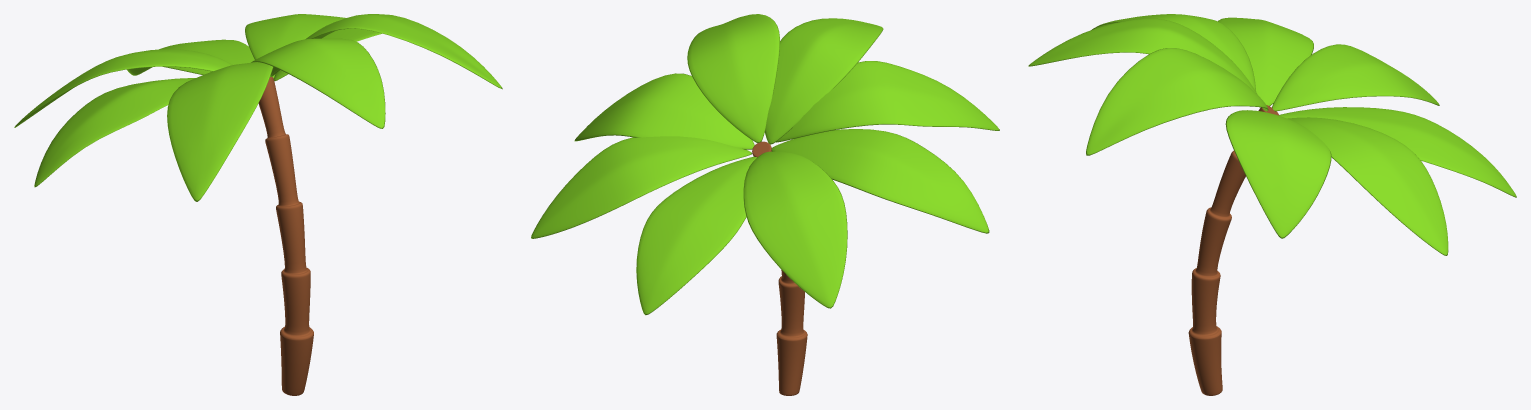
Rendered from palmera.fbx.
The picture shows the model from 3 angles, left to right: view 1: azimuth 30°, elevation 25°; view 2: azimuth 150°, elevation 25°; view 3: azimuth 270°, elevation 25°; orthographic projection. The views are drawn at different scales.
Visible parts, largest first — view 1: Sphere.001, Cylinder, Sphere; view 2: Sphere.001, Sphere, Cylinder; view 3: Sphere.001, Cylinder, Sphere.
Part boxes in pixels (bbox=[...]): Sphere.001: bbox=[14, 14, 502, 201]; Cylinder: bbox=[258, 77, 313, 395]; Sphere: bbox=[127, 39, 254, 75]; Sphere.001: bbox=[531, 14, 999, 308]; Sphere: bbox=[636, 156, 756, 315]; Cylinder: bbox=[752, 141, 807, 395]; Sphere.001: bbox=[1028, 14, 1448, 255]; Cylinder: bbox=[1188, 105, 1279, 395]; Sphere: bbox=[1279, 107, 1516, 197].
Bounding box in the file's own units: 5.81 × 4.74 × 5.8.
